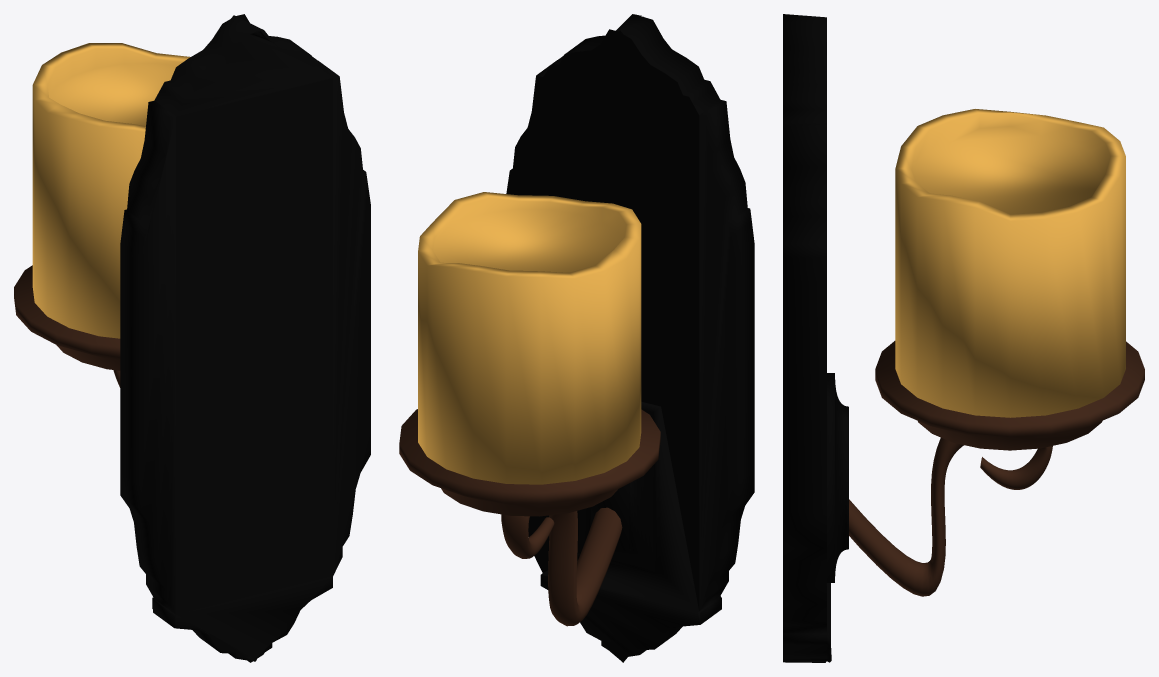
Rendered from light_wall_short.fbx.
3 views of the same model, side by side, from view 1: azimuth 30°, elevation 25°; view 2: azimuth 150°, elevation 25°; view 3: azimuth 270°, elevation 25° (orthographic). The views are drawn at different scales.
Parts seen in each view (by area): view 1: Cube; view 2: Cube, NurbsPath; view 3: Cube, NurbsPath.
Boxes of the visible parts, bbox=[...] form: Cube: bbox=[14, 14, 370, 662]; Cube: bbox=[399, 14, 754, 662]; NurbsPath: bbox=[501, 507, 622, 626]; Cube: bbox=[783, 14, 1144, 662]; NurbsPath: bbox=[849, 437, 1052, 596].
Size of the model in its own units: 64.9 by 171 by 86.76.
